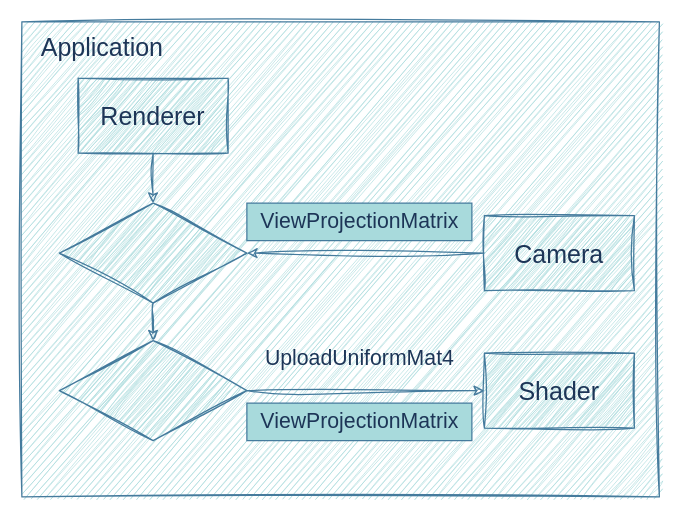
The diagram is 681 pixels wide and 519 high, and some of its shapes have lost their labels. Here are the shapes that lost their labels. From the top down, the centre of each, then its label:
At point 152,252: "beginScene".
At point 152,390: "Submit".
